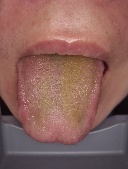tongue: (15, 60, 106, 147)
